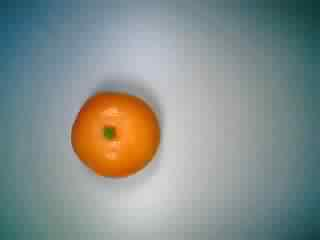orange: (67, 85, 163, 181)
